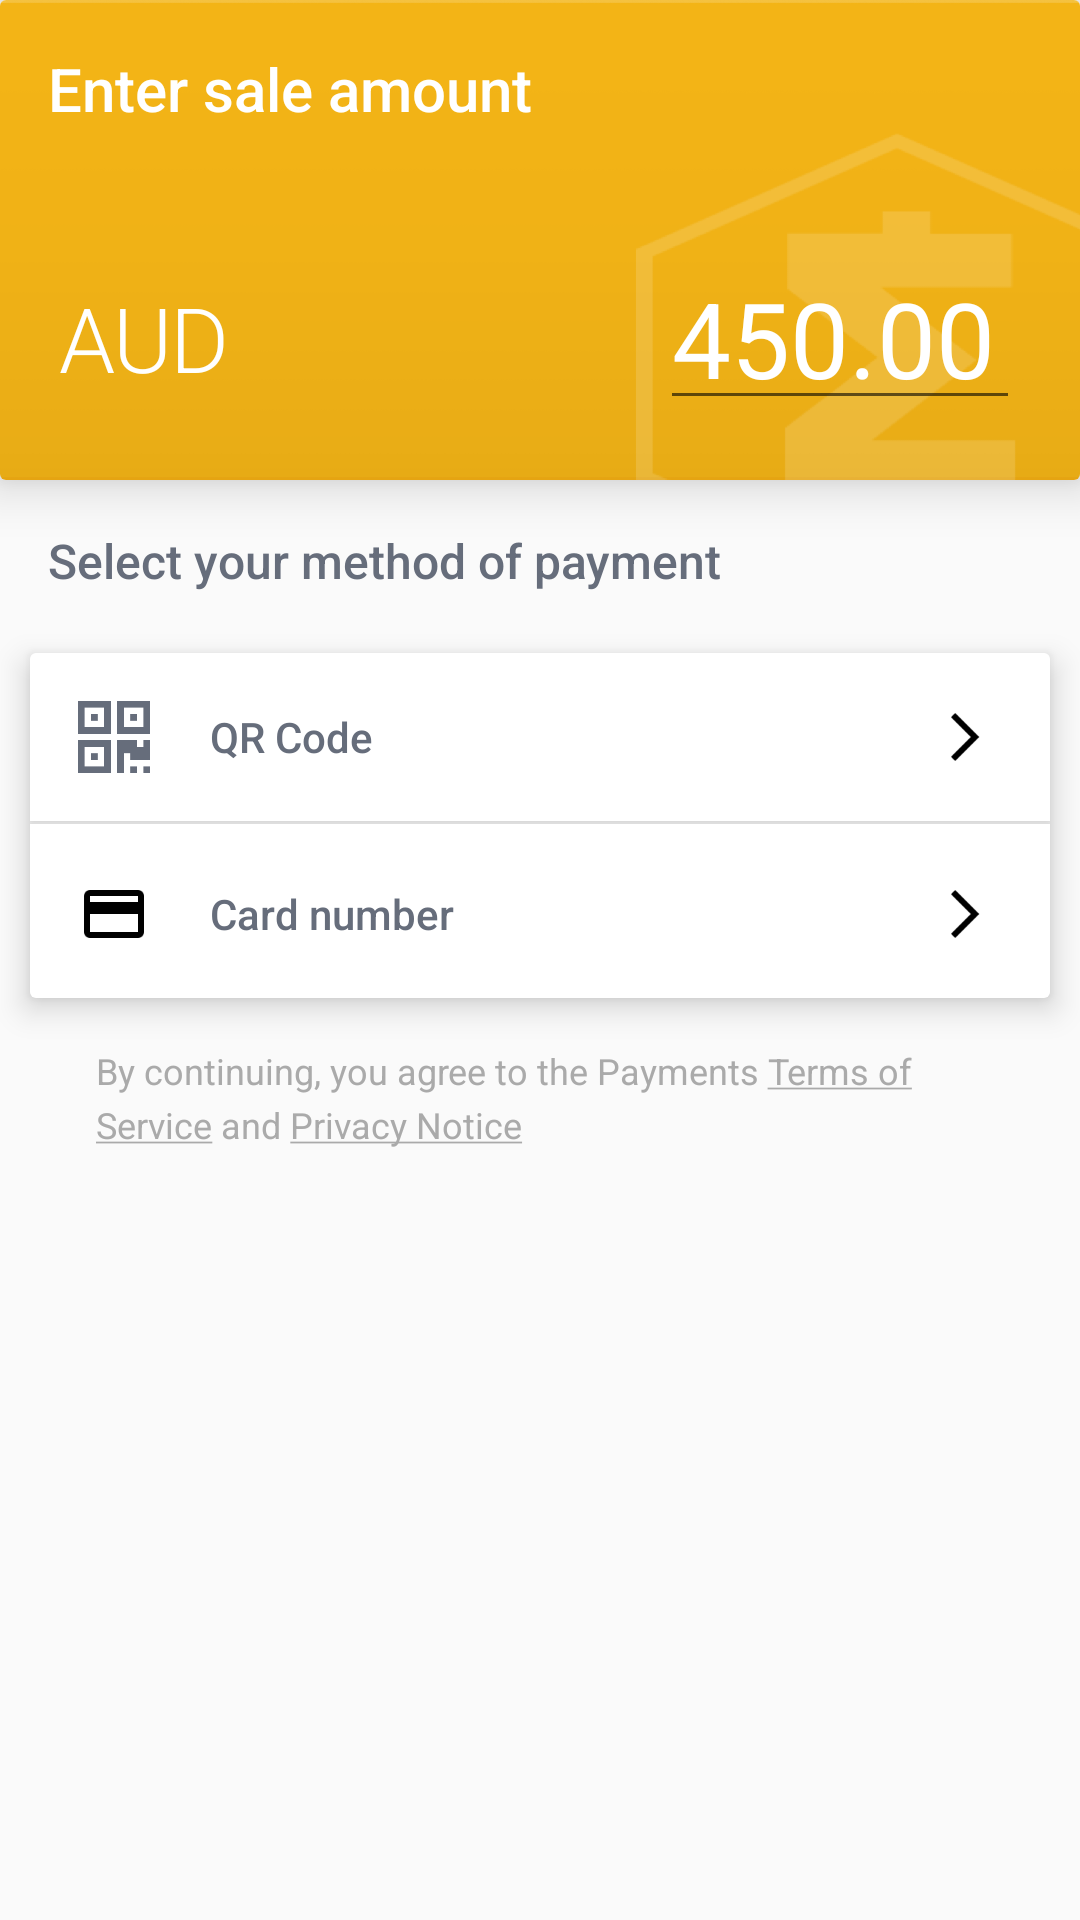

Screen size 1080 x 1920. Icon name, then its center in pixels as (x,y):
chevron right: (965,737), (965,914)
